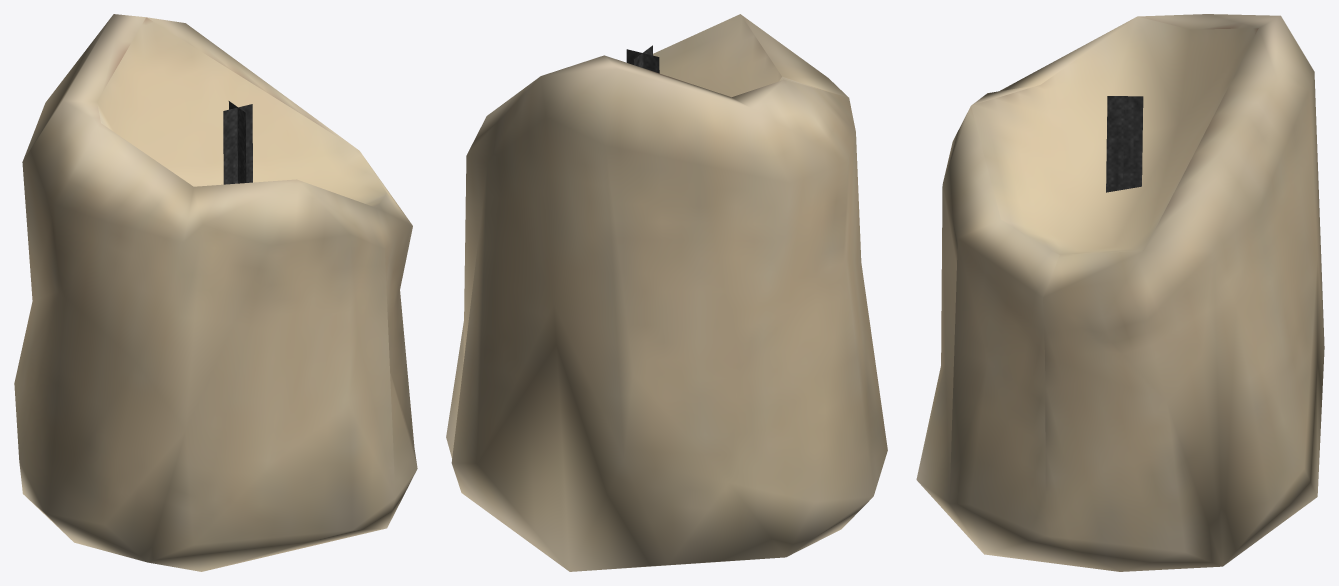
File: SM_Candle_05.gltf
3 renders of one model, left to right at view 1: azimuth 30°, elevation 25°; view 2: azimuth 150°, elevation 25°; view 3: azimuth 270°, elevation 25°, orthographic. The views are drawn at different scales.
Visible parts, largest first — view 1: SM_Candle_05_LOD0; view 2: SM_Candle_05_LOD0; view 3: SM_Candle_05_LOD0.
Boxes of the visible parts, x1,y1,x2,y2 form: SM_Candle_05_LOD0: (14, 14, 417, 571); SM_Candle_05_LOD0: (446, 14, 887, 571); SM_Candle_05_LOD0: (916, 14, 1324, 571).
Size of what is drawn, in the model's own units: 0.099 by 0.1196 by 0.0942.
Materials: 1 (1 with a texture image).
